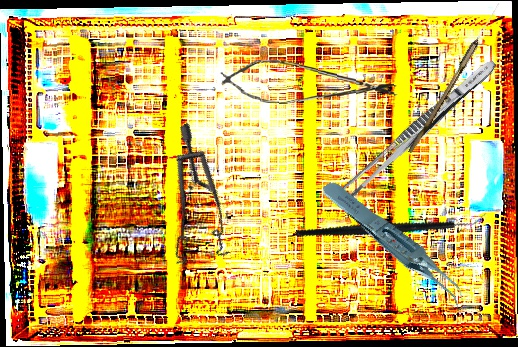Chopper: (294, 161, 488, 288)
Dressing Forceps: (337, 54, 501, 205)
Micro Scissor: (217, 57, 400, 110)
Speculum: (113, 121, 264, 282)
Surgical Spoon: (408, 0, 502, 156)
Tissue Forceps: (319, 157, 471, 336)
